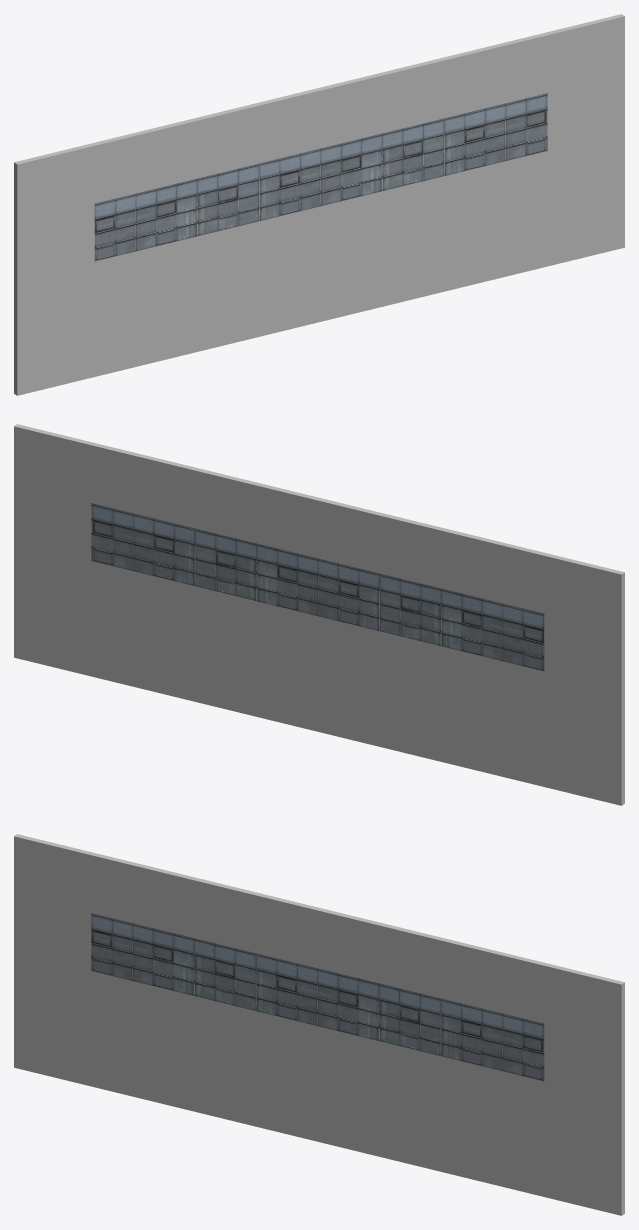
The model's file is Wall_With_Window.fbx.
The picture shows the model from 3 angles, top to bottom: view 1: azimuth 30°, elevation 25°; view 2: azimuth 150°, elevation 25°; view 3: azimuth 330°, elevation 25°; orthographic projection.
Parts seen in each view (by area): view 1: pCube6; view 2: pCube6; view 3: pCube6.
Boxes of the visible parts, bbox=[...] form: pCube6: bbox=[14, 14, 624, 395]; pCube6: bbox=[14, 424, 624, 805]; pCube6: bbox=[14, 834, 624, 1215].
Bounding box in the file's own units: 55 × 20 × 0.5021.
